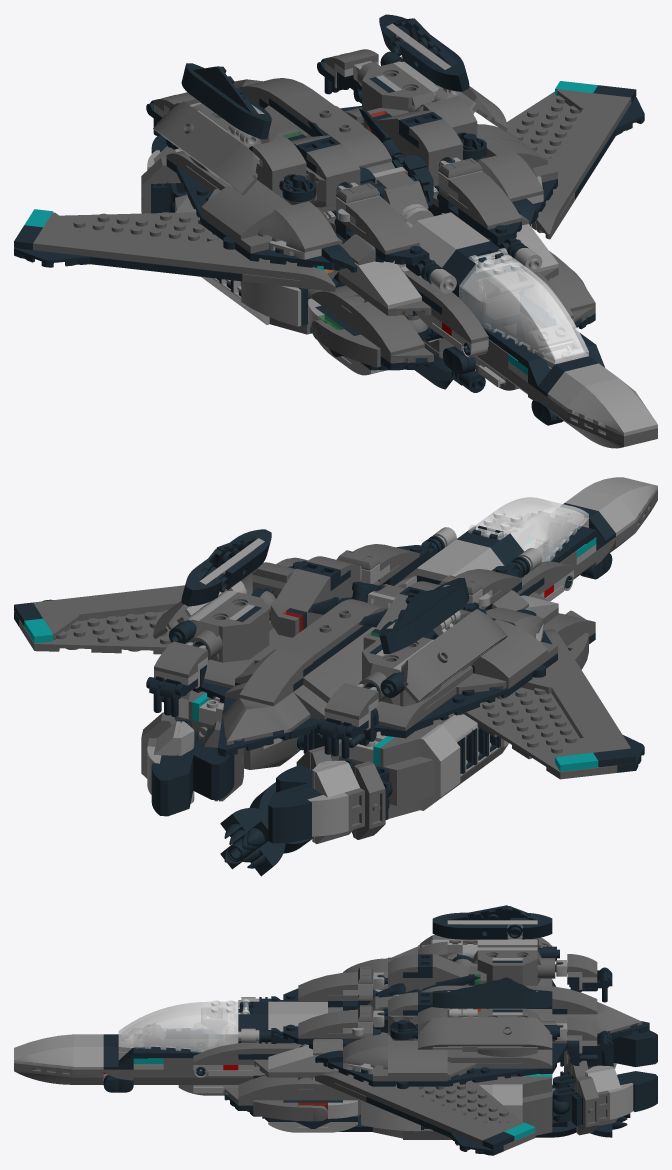
Rendered from vf-171-nightmare-plus-fighter.dae.
3 views of the same model, one above another, from view 1: azimuth 30°, elevation 25°; view 2: azimuth 150°, elevation 25°; view 3: azimuth 270°, elevation 25° (orthographic). The views are drawn at different scales.
Bounding box in the file's own units: 729 × 861 × 281.
